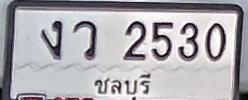0: (205, 22, 226, 61)
2: (123, 20, 146, 60)
3: (178, 22, 198, 61)
5: (151, 21, 173, 60)
A07: (41, 20, 62, 59)
A37: (73, 20, 97, 60)
CBI: (91, 72, 151, 97)
